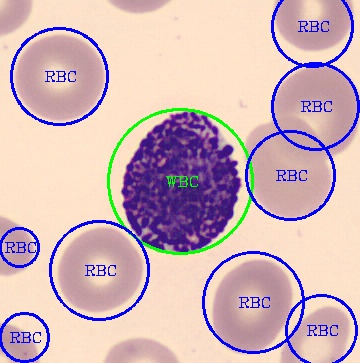RBC: (243, 115, 333, 221), (12, 31, 107, 124), (270, 63, 358, 160), (210, 255, 293, 355), (55, 223, 144, 314), (269, 0, 356, 53), (279, 303, 351, 361)
WBC: (120, 107, 241, 252)
